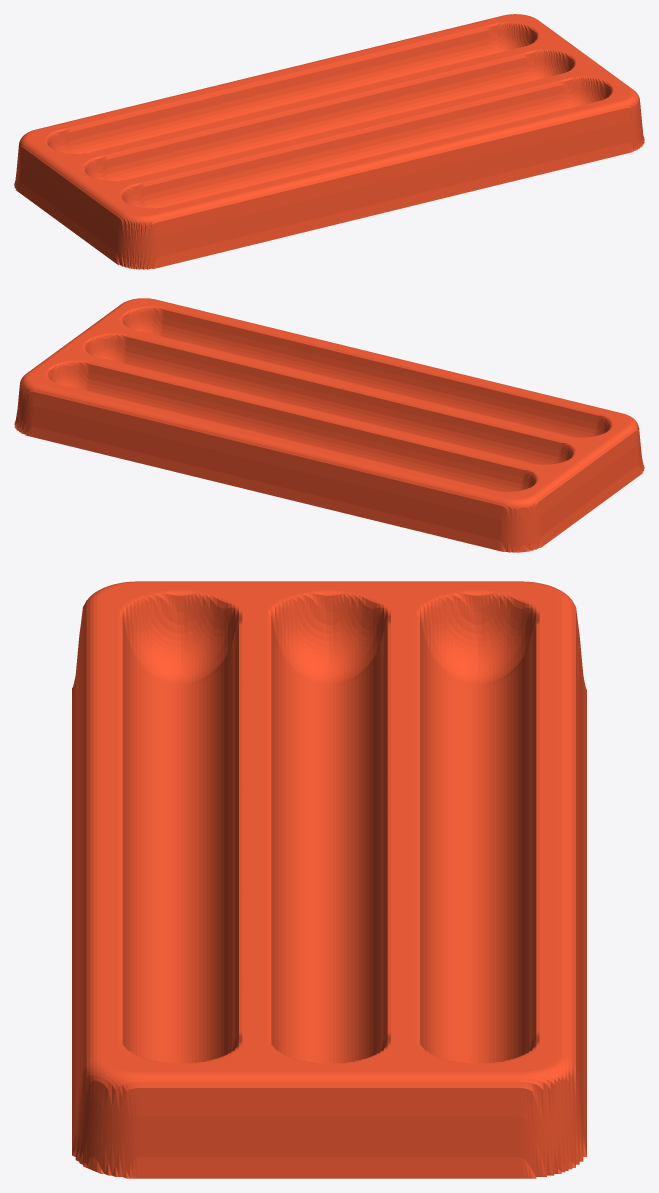
The model's file is mold.glb.
3 views of the same model, one above another, from view 1: azimuth 30°, elevation 25°; view 2: azimuth 150°, elevation 25°; view 3: azimuth 270°, elevation 25° (orthographic). The views are drawn at different scales.
Parts seen in each view (by area): view 1: geometry_0; view 2: geometry_0; view 3: geometry_0.
Boxes of the visible parts, box(x1,y1,x2,y2) form: geometry_0: box(14, 14, 644, 269); geometry_0: box(14, 298, 644, 552); geometry_0: box(72, 581, 586, 1178).
Size of the model in its own units: 0.167 by 0.0145 by 0.071.
